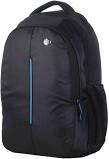bag: (4, 3, 108, 159)
